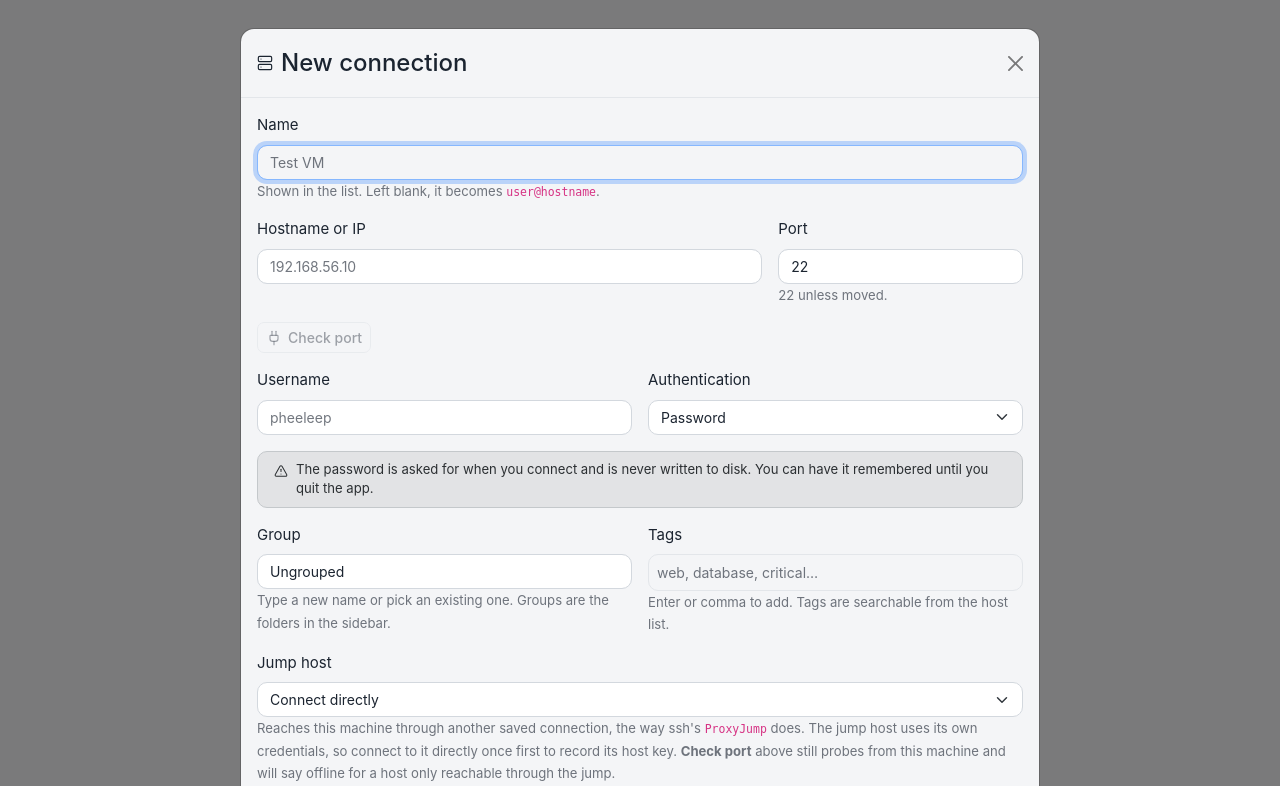
Test: HostFormDialog › explains what auth method none really means
This screenshot has width=1280, height=786.
Step 1. Select "None (Tailscale SSH)" in the dropdown labelled "Authentication" → (836, 417), box top-left (648, 400), bottom-right (1023, 434)
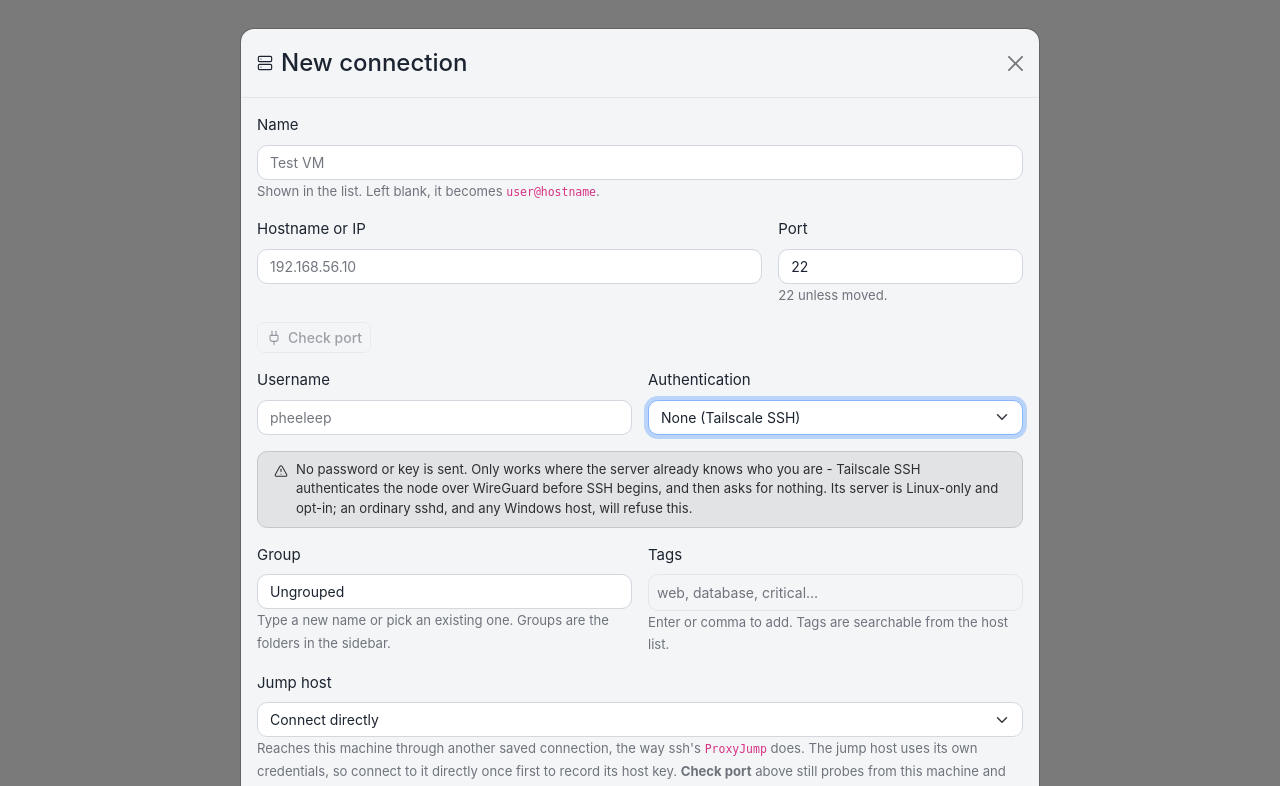
Check: the text "an ordinary sshd, and any Windows host" is shown, box top-left (296, 460), bottom-right (998, 516)
